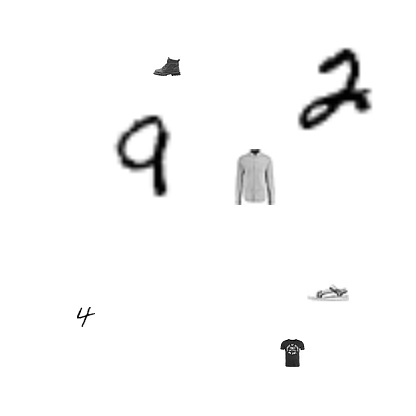2: (279, 33, 391, 145)
4: (70, 301, 98, 329)
9: (90, 96, 202, 208)
Ankle_boot: (153, 52, 181, 80)
Sandal: (307, 271, 349, 313)
Shirt: (227, 149, 283, 205)
T-shirt/top: (278, 339, 306, 367)
